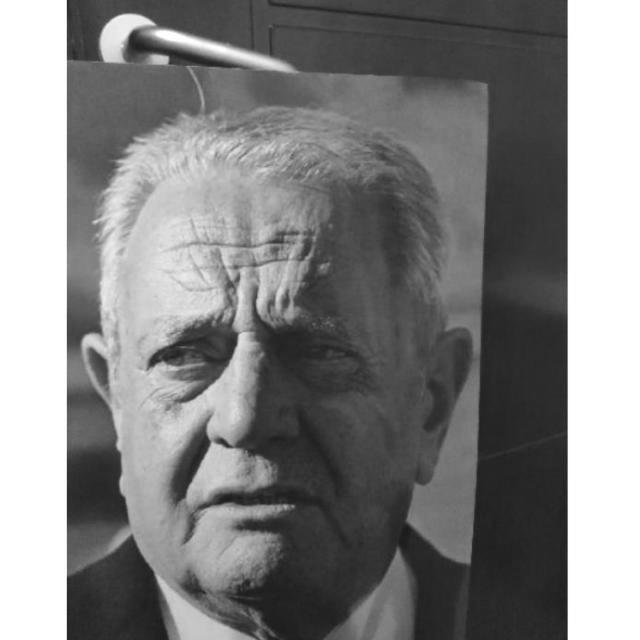fake: (66, 53, 486, 640)
